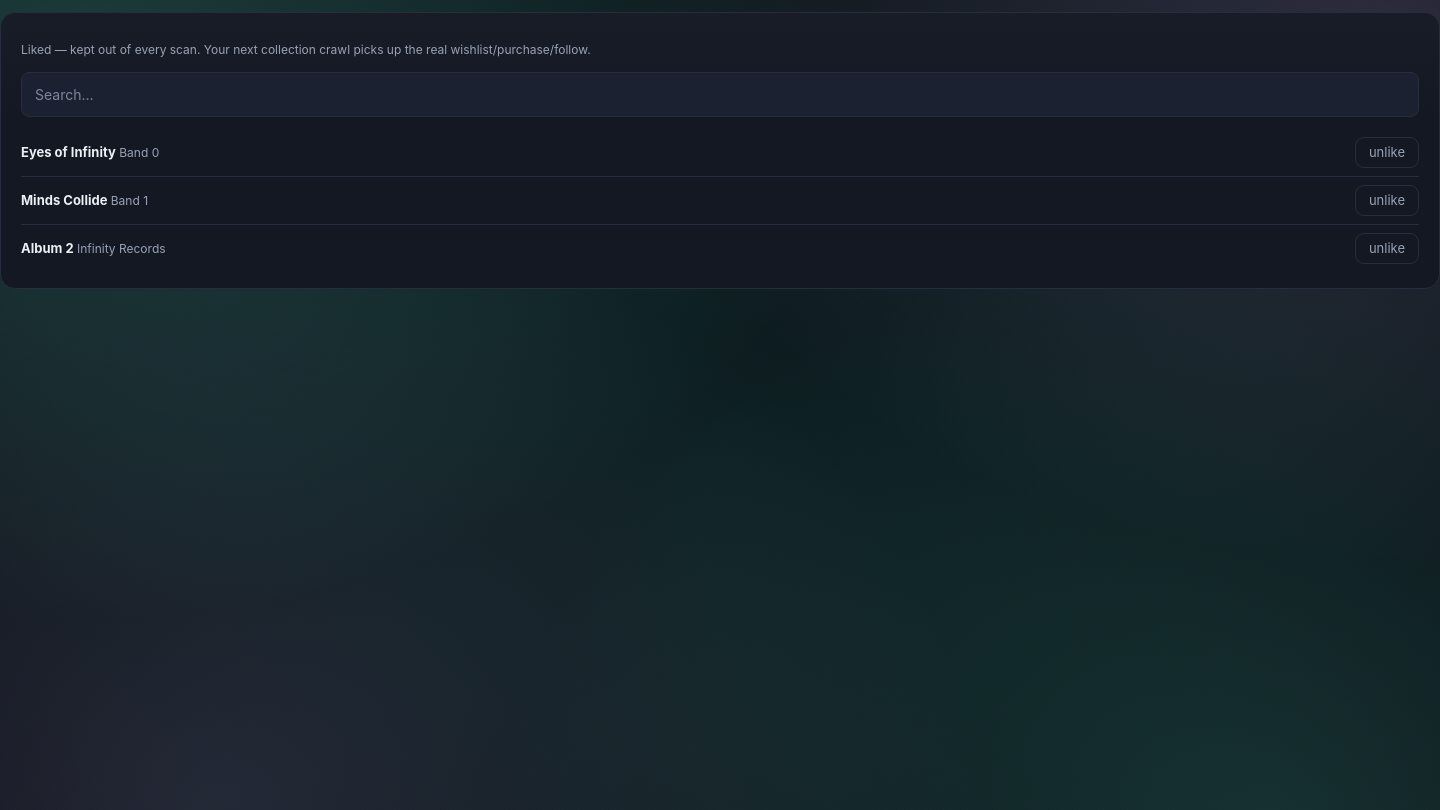
it: LikedPanel search › narrows to matching rows by title or band name
Type "infinity" into the field named "Search liked items" at (720, 94), box [21,72,1419,117]
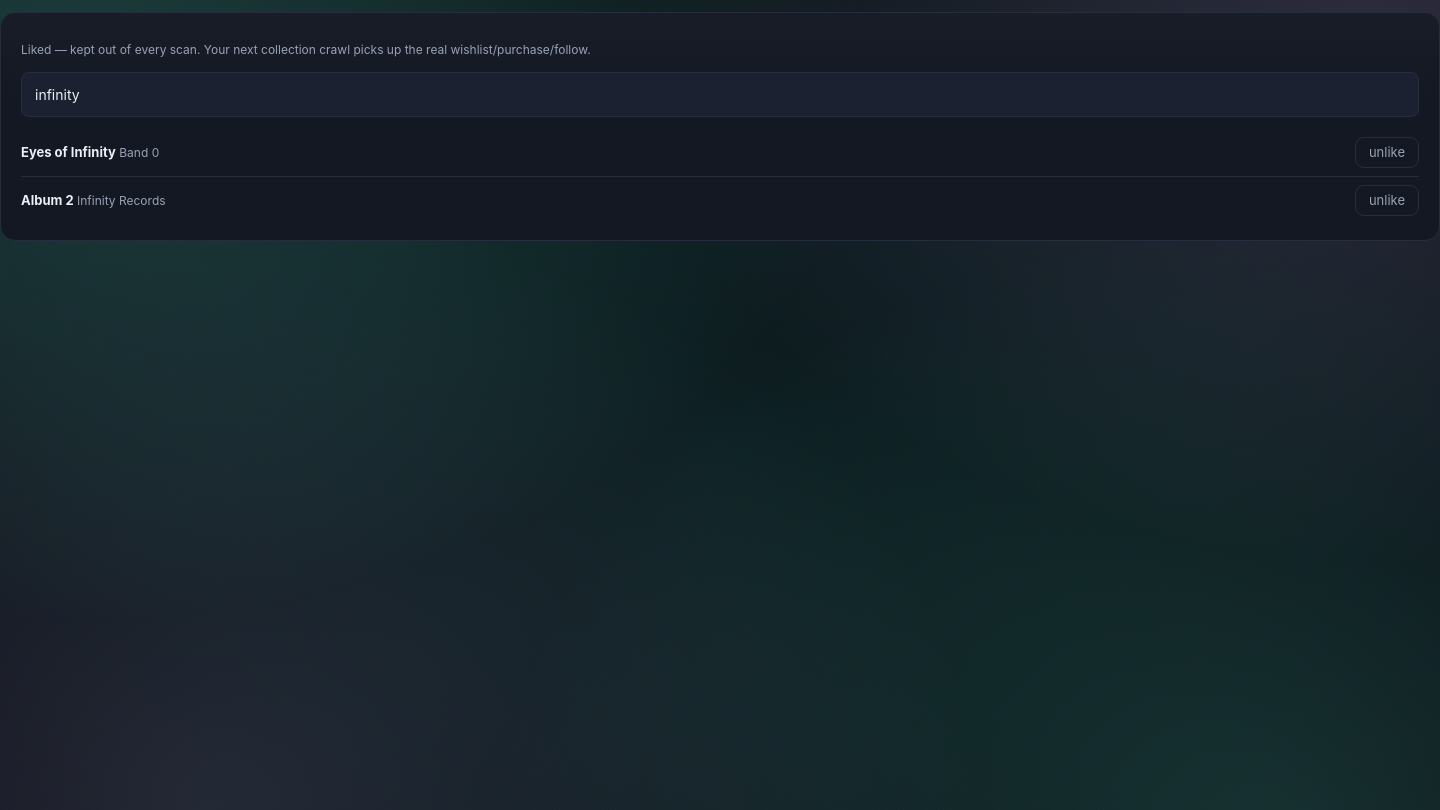
Expected: the text "Eyes of Infinity" is shown, [21,144,116,160]
Result: the text "Minds Collide" is gone
Result: the number of buttons "unlike" is 2 at [1355,137,1419,168]; [1355,185,1419,216]
